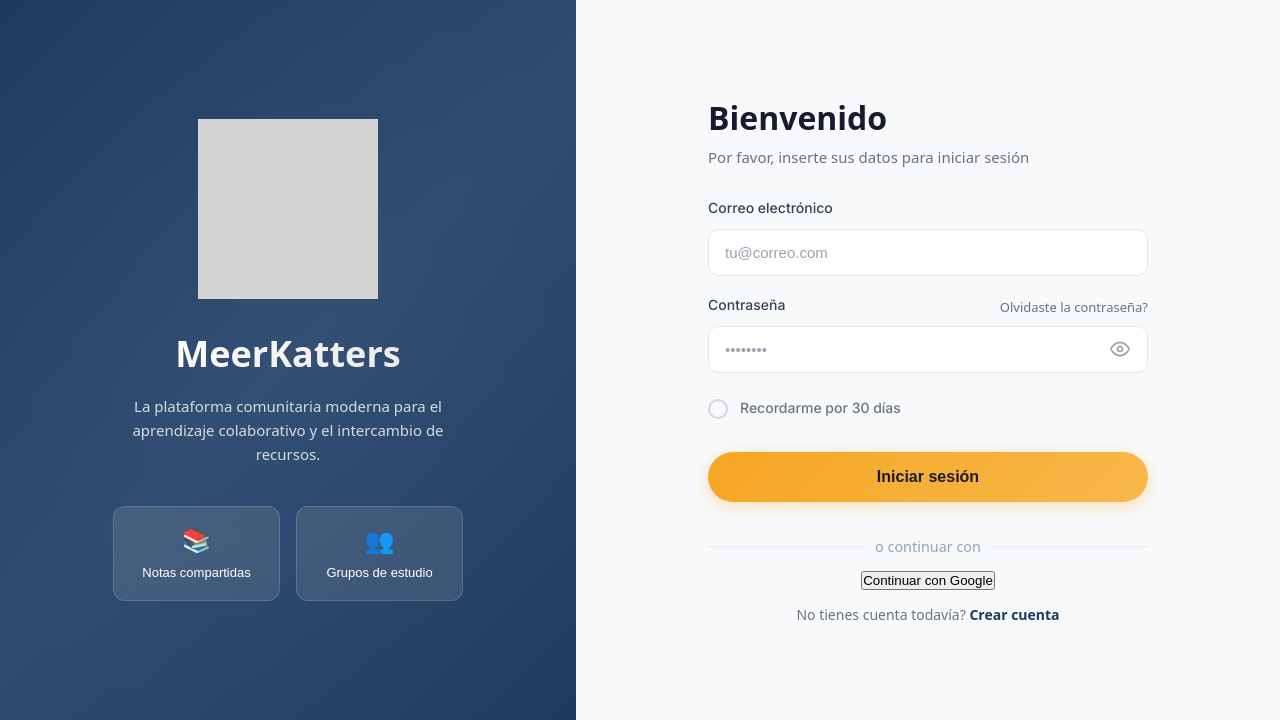
Login › shows error message on login failure
The image size is (1280, 720).
Type "user@test.com" into the field with placeholder "tu@correo.com".
click(928, 253); type("user@test.com")  # box x1=708 y1=229 x2=1148 y2=276
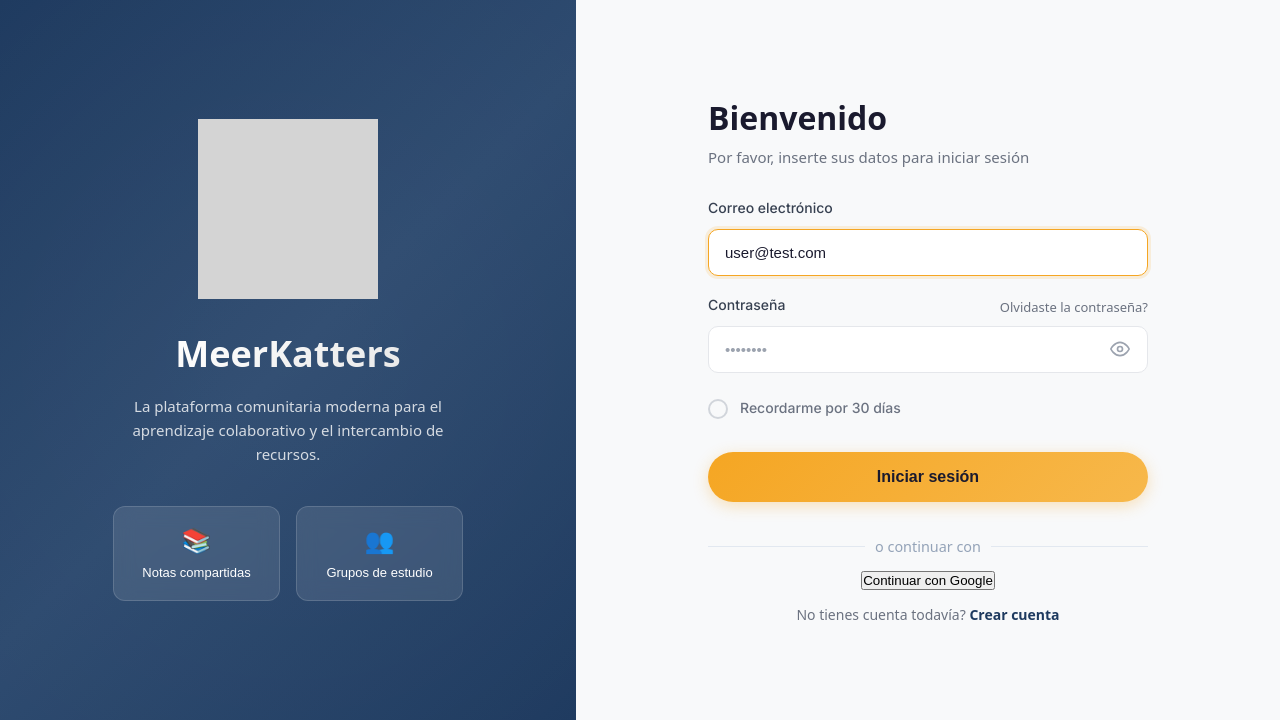
Type "wrong" into the password field with placeholder "••••••••".
click(928, 349); type("wrong")  # box x1=708 y1=326 x2=1148 y2=373
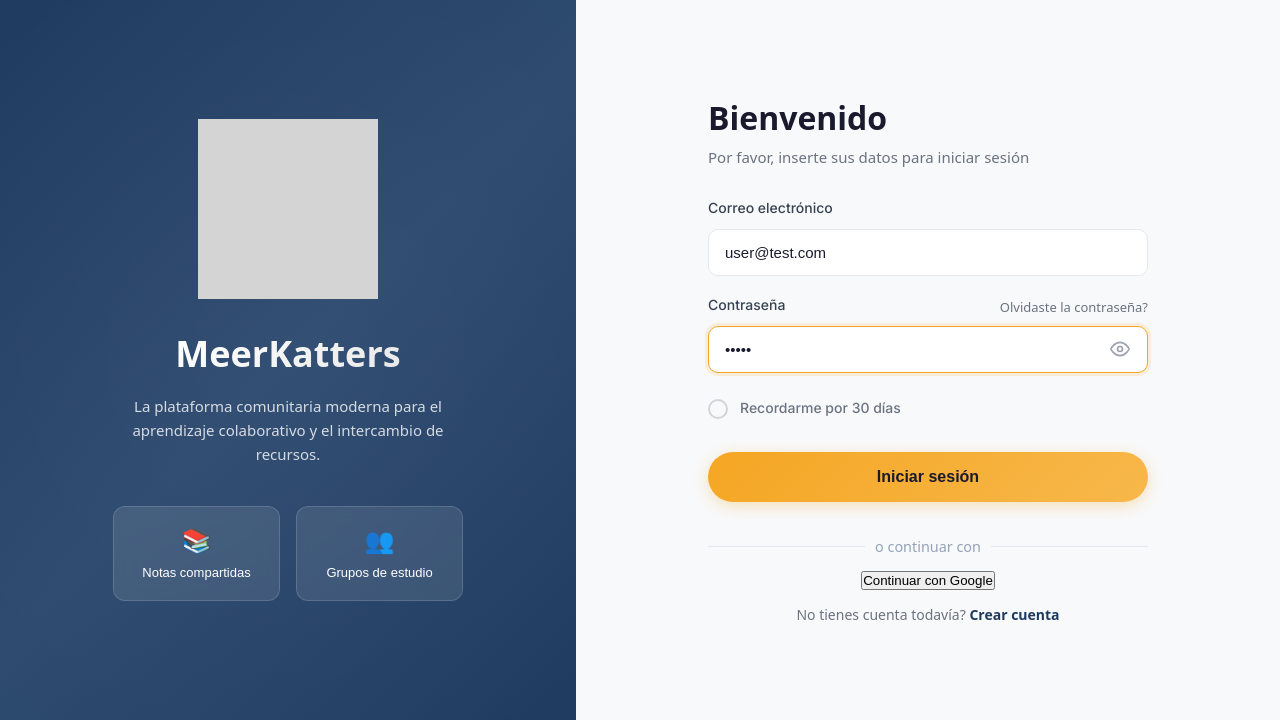
Click the button "Iniciar sesión".
click(928, 477)  # box x1=708 y1=452 x2=1148 y2=502
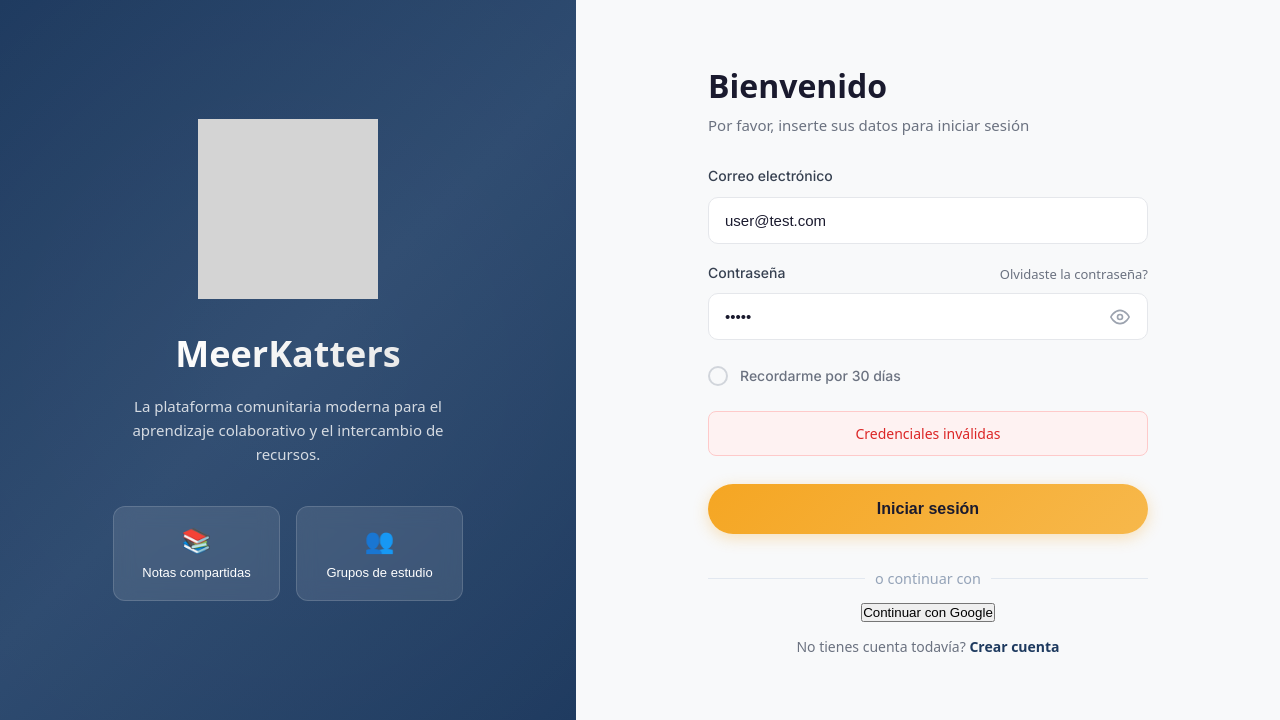
Expected: the text "Credenciales inválidas" is shown, x1=708 y1=411 x2=1148 y2=456
